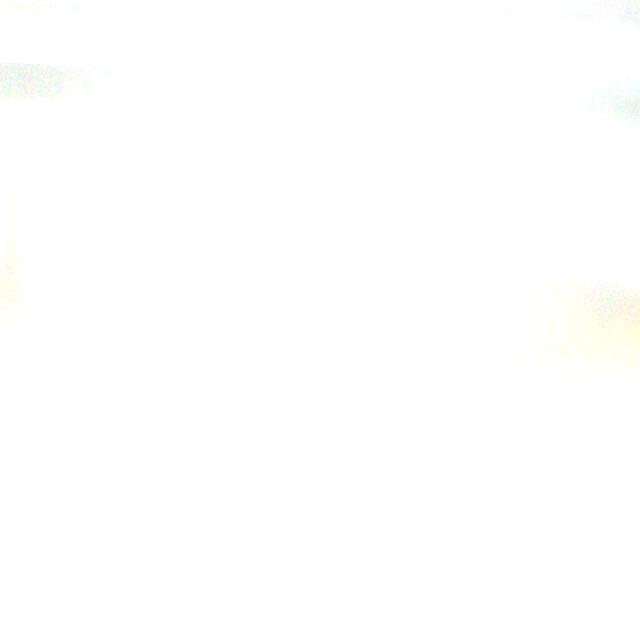placa: (116, 285, 460, 518)
